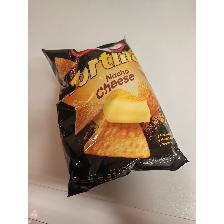Chips: (41, 34, 192, 198)
